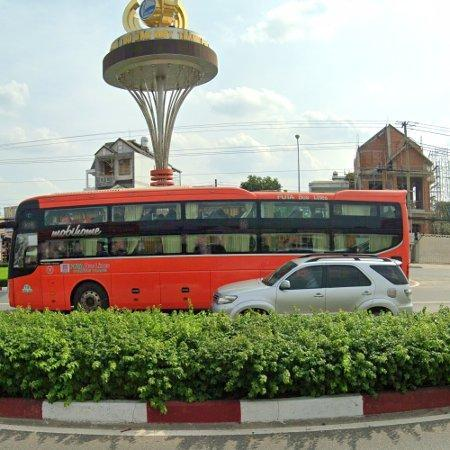buses: (8, 187, 409, 310)
